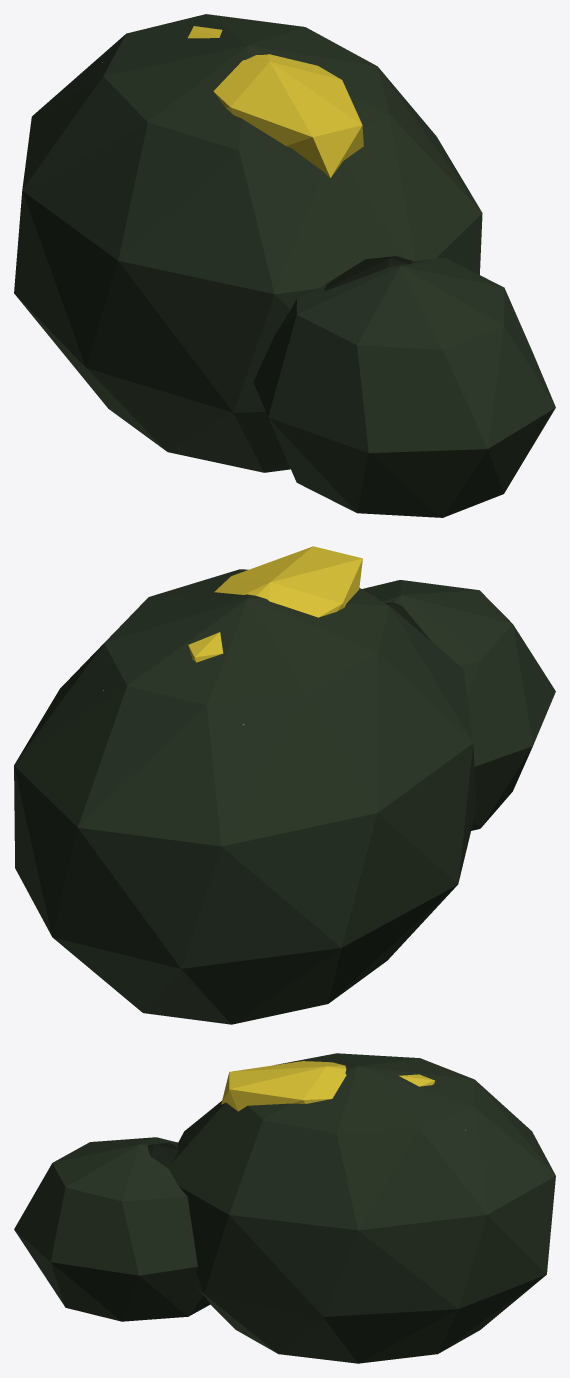
The model's file is spider_1_body.glb.
3 views of the same model, one above another, from view 1: azimuth 30°, elevation 25°; view 2: azimuth 150°, elevation 25°; view 3: azimuth 270°, elevation 25° (orthographic). The views are drawn at different scales.
Parts seen in each view (by area): view 1: spider_1_body; view 2: spider_1_body; view 3: spider_1_body.
Boxes of the visible parts, x1,y1,x2,y2 form: spider_1_body: [14, 14, 555, 517]; spider_1_body: [14, 546, 555, 1024]; spider_1_body: [14, 1053, 555, 1363].
Bounding box in the file's own units: 0.3964 × 0.4 × 0.6929.
